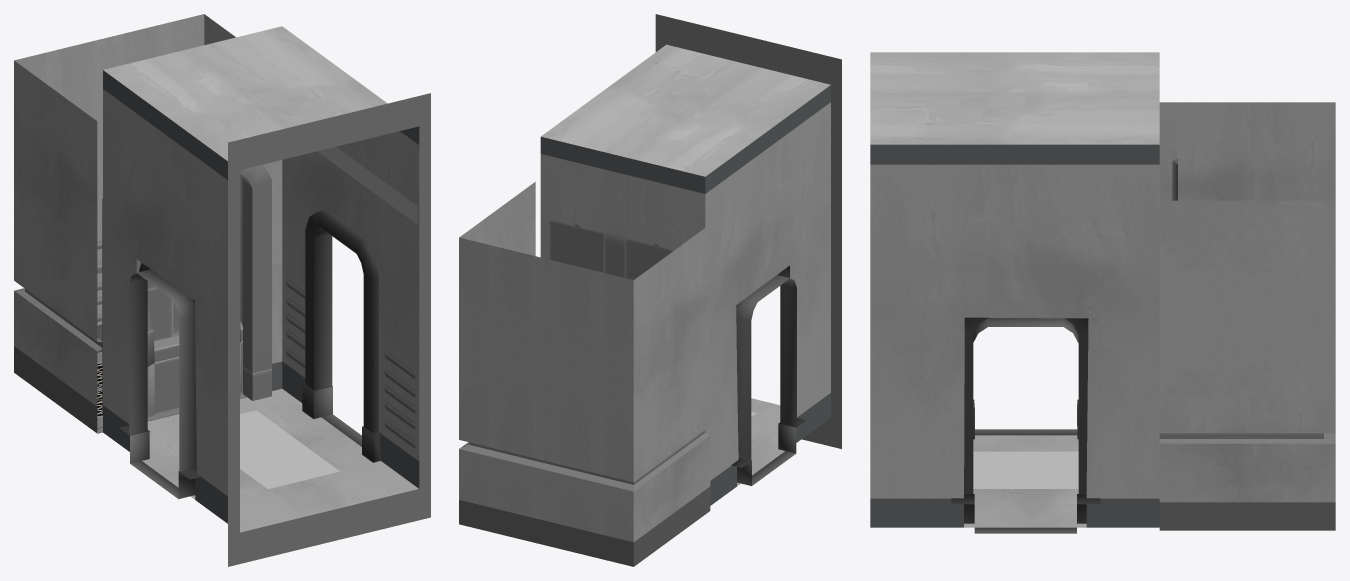
File: MSH_QuestElevator_L3.fbx
3 renders of one model, left to right at view 1: azimuth 30°, elevation 25°; view 2: azimuth 150°, elevation 25°; view 3: azimuth 270°, elevation 25°, orthographic. The views are drawn at different scales.
Parts seen in each view (by area): view 1: MSH_QuestElevator_L1_R3_Wall_01, MSH_QuestElevator_L1_R3_Room_Back, MSH_QuestElevator_L1_R3_Doors_01, MSH_QuestElevator_L1_R3_Room_frame, MSH_QuestElevator_L1_R3_Ceiling_01, MSH_QuestElevator_L1_R3_Doors_02, MSH_QuestElevator_L1_R3_groundl_01, MSH_Elevator_DoorUp, MSH_QuestElevator_L1_R3_Object_01, MSH_Elevator_DoorDown, MSH_QuestElevator_L1_R3_Wall_02; view 2: MSH_QuestElevator_L1_R3_Room_Back, MSH_QuestElevator_L1_R3_Wall_01, MSH_QuestElevator_L1_R3_Ceiling_01, MSH_QuestElevator_L1_R3_Room_frame, MSH_QuestElevator_L1_R3_Doors_02, MSH_Elevator_DoorUp, MSH_QuestElevator_L1_R3_Doors_01; view 3: MSH_QuestElevator_L1_R3_Wall_01, MSH_QuestElevator_L1_R3_Room_Back, MSH_QuestElevator_L1_R3_Ceiling_01, MSH_QuestElevator_L1_R3_Doors_01, MSH_QuestElevator_L1_R3_groundl_01, MSH_QuestElevator_L1_R3_Doors_02.
Boxes of the visible parts, x1=… form: MSH_QuestElevator_L1_R3_Wall_01: x1=103, y1=70, x2=419, y2=523; MSH_QuestElevator_L1_R3_Room_Back: x1=14, y1=14, x2=235, y2=433; MSH_QuestElevator_L1_R3_Doors_01: x1=97, y1=164, x2=418, y2=532; MSH_QuestElevator_L1_R3_Room_frame: x1=228, y1=93, x2=430, y2=566; MSH_QuestElevator_L1_R3_Ceiling_01: x1=103, y1=26, x2=387, y2=160; MSH_QuestElevator_L1_R3_Doors_02: x1=129, y1=228, x2=361, y2=499; MSH_QuestElevator_L1_R3_groundl_01: x1=240, y1=410, x2=339, y2=489; MSH_Elevator_DoorUp: x1=147, y1=176, x2=242, y2=366; MSH_QuestElevator_L1_R3_Object_01: x1=97, y1=241, x2=415, y2=448; MSH_Elevator_DoorDown: x1=147, y1=341, x2=242, y2=418; MSH_QuestElevator_L1_R3_Wall_02: x1=240, y1=147, x2=417, y2=267; MSH_QuestElevator_L1_R3_Room_Back: x1=459, y1=182, x2=710, y2=566; MSH_QuestElevator_L1_R3_Wall_01: x1=540, y1=85, x2=830, y2=505; MSH_QuestElevator_L1_R3_Ceiling_01: x1=541, y1=44, x2=830, y2=176; MSH_QuestElevator_L1_R3_Room_frame: x1=655, y1=14, x2=841, y2=448; MSH_QuestElevator_L1_R3_Doors_02: x1=736, y1=275, x2=796, y2=485; MSH_Elevator_DoorUp: x1=549, y1=220, x2=673, y2=279; MSH_QuestElevator_L1_R3_Doors_01: x1=731, y1=265, x2=806, y2=486; MSH_QuestElevator_L1_R3_Wall_01: x1=870, y1=144, x2=1159, y2=527; MSH_QuestElevator_L1_R3_Room_Back: x1=1159, y1=102, x2=1335, y2=530; MSH_QuestElevator_L1_R3_Ceiling_01: x1=870, y1=52, x2=1159, y2=144; MSH_QuestElevator_L1_R3_Doors_01: x1=951, y1=317, x2=1100, y2=527; MSH_QuestElevator_L1_R3_groundl_01: x1=973, y1=451, x2=1078, y2=488; MSH_QuestElevator_L1_R3_Doors_02: x1=973, y1=317, x2=1078, y2=533.
Bounding box in the file's own units: 3.43 × 6.87 × 6.46.
